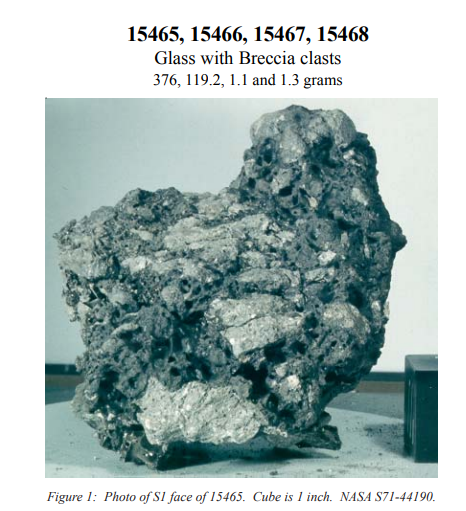Breccia: (54, 105, 408, 458)
